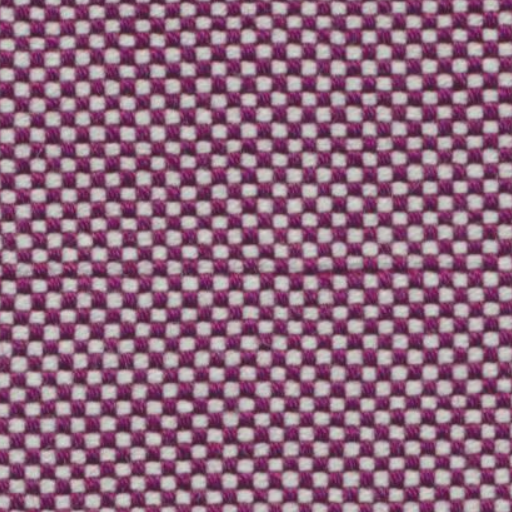TuoSha: (14, 239, 500, 303)
